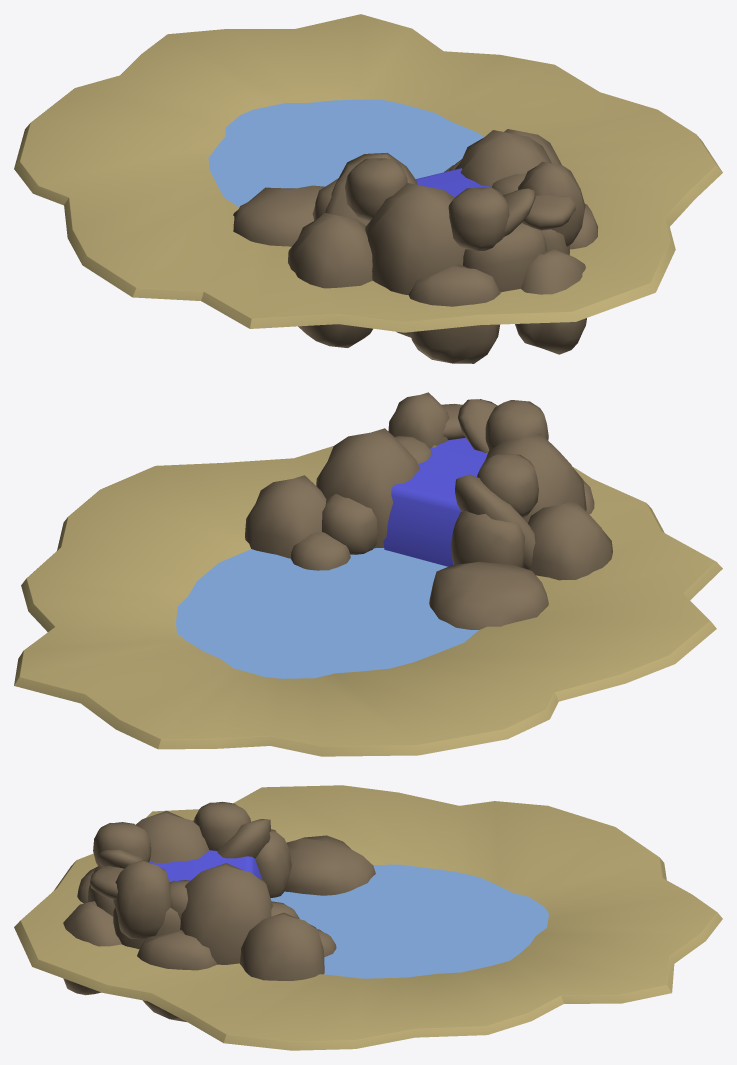
File: oasisV2.fbx
The picture shows the model from 3 angles, top to bottom: view 1: azimuth 30°, elevation 25°; view 2: azimuth 150°, elevation 25°; view 3: azimuth 270°, elevation 25°; orthographic projection. The views are drawn at different scales.
Parts seen in each view (by area): view 1: Circle.001, Circle.002, rockLOW06.002, rockLOW06.003, rockLOW03.004, rockLOW04, rockLOW03.005, rockLOW06.001, rockLOW01.002, rockLOW03, rockLOW01.001, rockLOW06.004 (+5 smaller); view 2: Circle.001, Circle.002, Plane, rockLOW04, rockLOW06.001, rockLOW06.003, rockLOW06, rockLOW06.002, rockLOW03.001, rockLOW01.001, rockLOW01.004, rockLOW06.004 (+4 smaller); view 3: Circle.001, Circle.002, rockLOW06.001, rockLOW06, rockLOW04, rockLOW06.004, rockLOW06.002, rockLOW03.003, rockLOW03.005, rockLOW01.001, rockLOW01.002, rockLOW03.001 (+6 smaller).
Part boxes in pixels (x1,y1,x2,y2): Circle.001: (14, 14, 722, 332); Circle.002: (208, 99, 484, 207); rockLOW06.002: (365, 183, 465, 337); rockLOW06.003: (288, 213, 372, 347); rockLOW03.004: (408, 264, 500, 363); rockLOW04: (233, 185, 324, 246); rockLOW03.005: (515, 249, 586, 354); rockLOW06.001: (455, 130, 551, 186); rockLOW01.002: (448, 187, 509, 250); rockLOW03: (463, 223, 546, 292); rockLOW01.001: (345, 158, 407, 220); rockLOW06.004: (518, 161, 585, 246); Circle.001: (14, 446, 722, 756); Circle.002: (176, 548, 478, 678); Plane: (383, 437, 487, 566); rockLOW04: (429, 561, 548, 629); rockLOW06.001: (316, 428, 419, 548); rockLOW06.003: (526, 500, 612, 580); rockLOW06: (245, 475, 326, 558); rockLOW06.002: (485, 433, 586, 523); rockLOW03.001: (450, 511, 524, 567); rockLOW01.001: (477, 453, 538, 517); rockLOW01.004: (322, 494, 377, 554); rockLOW06.004: (388, 392, 449, 448); Circle.001: (14, 785, 722, 1050); Circle.002: (270, 864, 548, 978); rockLOW06.001: (180, 863, 272, 964); rockLOW06: (239, 912, 324, 980); rockLOW04: (285, 835, 375, 895); rockLOW06.004: (113, 860, 170, 938); rockLOW06.002: (136, 811, 208, 862); rockLOW03.003: (137, 930, 216, 1021); rockLOW03.005: (63, 901, 121, 995); rockLOW01.001: (194, 801, 250, 850); rockLOW01.002: (93, 822, 151, 867); rockLOW03.001: (255, 829, 291, 897).
Bounding box in the file's own units: 1653 × 439 × 1897.
